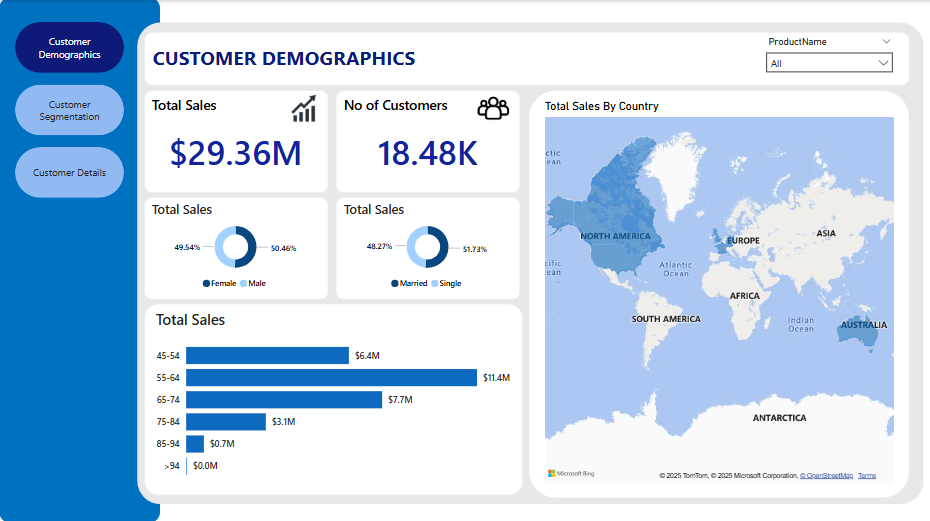

The page's visual inventory and layout, read from the dashboard file:
{"tool":"powerbi","page":{"name":"Customer Demographics","canvas":[1280,720],"ordinal":0},"visuals":[{"type":"card","title":"Total Sales","fields":{"Values":["Sum(FactInternetSales.SalesAmount)"]},"box":[204.2,130.1,241.2,130.1],"z":0},{"type":"image","box":[391.3,123.1,54,52],"z":1000},{"type":"card","title":"No of Customers","fields":{"Values":["Count(FactInternetSales.CustomerKey)"]},"box":[468.4,130.1,241.2,130.1],"z":2000},{"type":"image","box":[640.5,113.1,78.1,72.1],"z":3000},{"type":"donutChart","title":"Total Sales","fields":{"Y":["Sum(FactInternetSales.SalesAmount)"],"Category":["DimCustomer.Gender"]},"box":[204.2,275.2,241.2,133.1],"z":4000},{"type":"donutChart","title":"Total Sales","fields":{"Y":["Sum(FactInternetSales.SalesAmount)"],"Category":["DimCustomer.MaritalStatus"]},"box":[468.4,275.2,241.2,133.1],"z":5000},{"type":"barChart","title":"Total Sales","fields":{"Y":["Sum(FactInternetSales.SalesAmount)"],"Category":["Age Sort.Age band"]},"box":[209.8,426,500.7,246.4],"z":6000},{"type":"filledMap","title":"Total Sales By Country","fields":{"Category":["DimGeography.Country"]},"box":[743.9,136.8,490.9,534.7],"z":7000},{"type":"textbox","box":[205,55.6,400.5,49.3],"z":8000},{"type":"slicer","fields":{"Values":["DimProduct.ProductName"]},"box":[1044.2,46.1,193.9,68.3],"z":9000},{"type":"pageNavigator","box":[20.7,30.2,151,244.8],"z":9001}]}

Visuals, with their boxes in screenshot pixels (x1, y1, x2, y2), scaled from the page's 1280x720 canvas onto the 930x521 screenshot:
"Total Sales" card: {"x1": 148, "y1": 94, "x2": 324, "y2": 188}
image: {"x1": 284, "y1": 89, "x2": 324, "y2": 127}
"No of Customers" card: {"x1": 340, "y1": 94, "x2": 516, "y2": 188}
image: {"x1": 465, "y1": 82, "x2": 522, "y2": 134}
"Total Sales" donutChart: {"x1": 148, "y1": 199, "x2": 324, "y2": 295}
"Total Sales" donutChart: {"x1": 340, "y1": 199, "x2": 516, "y2": 295}
"Total Sales" barChart: {"x1": 152, "y1": 308, "x2": 516, "y2": 487}
"Total Sales By Country" filledMap: {"x1": 540, "y1": 99, "x2": 897, "y2": 486}
textbox: {"x1": 149, "y1": 40, "x2": 440, "y2": 76}
slicer - DimProduct.ProductName: {"x1": 759, "y1": 33, "x2": 900, "y2": 83}
pageNavigator: {"x1": 15, "y1": 22, "x2": 125, "y2": 199}
